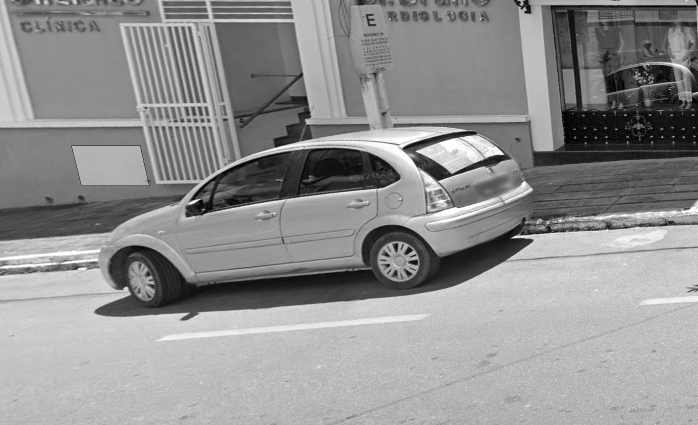car: (96, 104, 545, 310)
